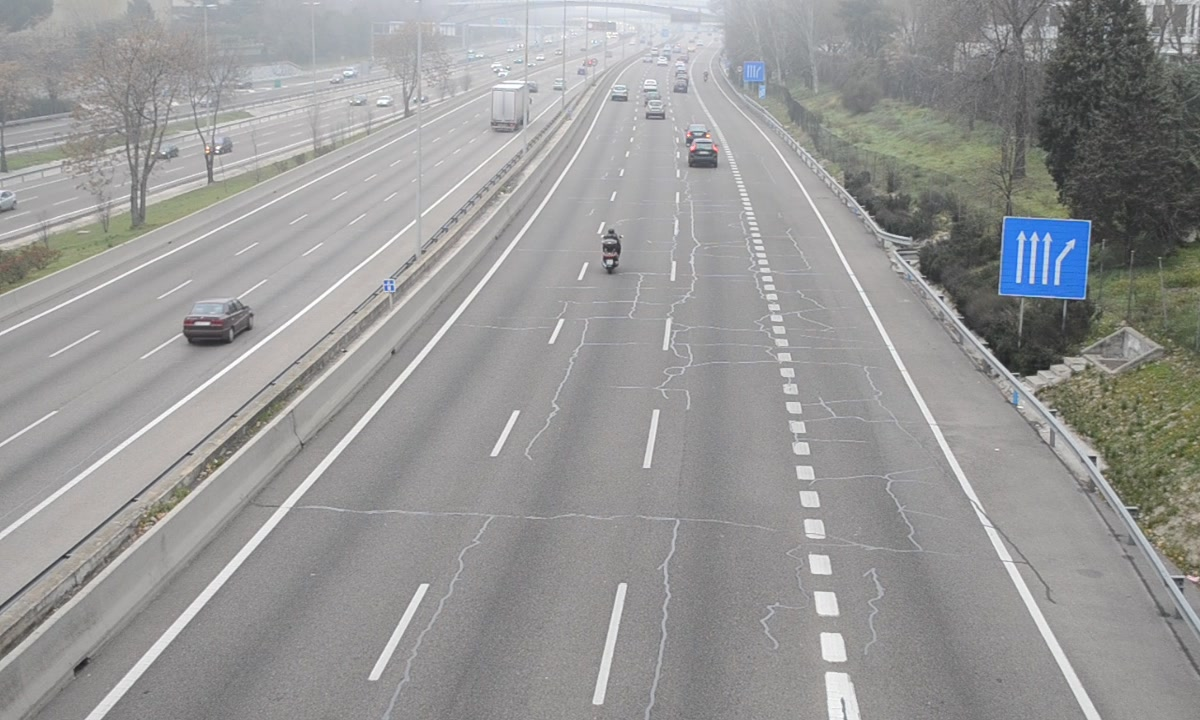car: (689, 138, 719, 170)
motorcycle: (601, 228, 622, 273)
